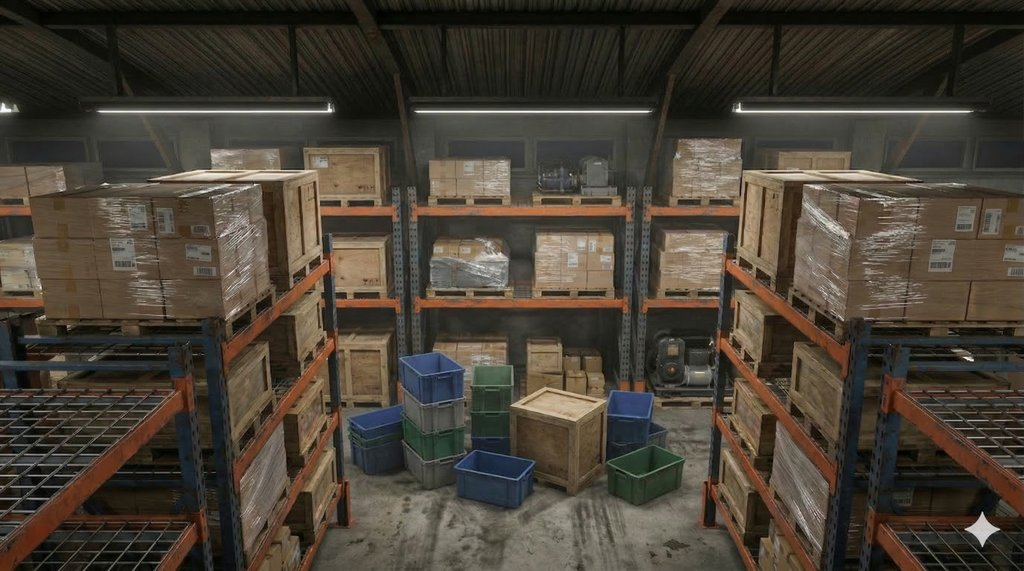empty_shelf: (9, 381, 217, 569), (869, 338, 1019, 565)
obstacle: (336, 328, 707, 554)
pallet: (29, 315, 251, 365), (780, 389, 846, 476), (761, 477, 828, 554), (779, 285, 846, 345), (416, 280, 541, 309), (321, 186, 416, 224), (722, 418, 774, 479), (526, 276, 632, 305), (665, 187, 741, 226), (426, 191, 530, 219), (330, 275, 401, 314), (650, 279, 731, 311), (533, 186, 624, 214), (723, 330, 767, 384), (724, 249, 778, 293), (282, 247, 345, 284), (330, 390, 406, 414)
